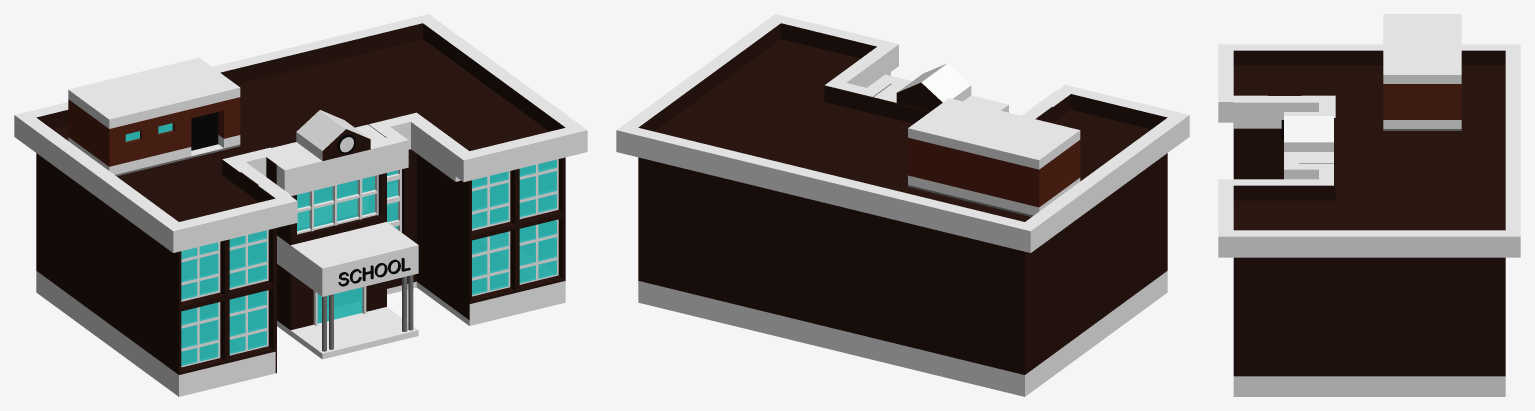
Rendered from School.fbx.
The picture shows the model from 3 angles, left to right: view 1: azimuth 30°, elevation 25°; view 2: azimuth 150°, elevation 25°; view 3: azimuth 270°, elevation 25°; orthographic projection. The views are drawn at different scales.
Parts seen in each view (by area): view 1: Box302, Box325, Box312, Box316, Box310, Box314, Text006, Box313, Box317, Box315, Box311; view 2: Box302; view 3: Box302.
Boxes of the visible parts, bbox=[...] form: Box302: bbox=[14, 14, 587, 396]; Box325: bbox=[297, 175, 378, 234]; Box312: bbox=[181, 302, 220, 367]; Box316: bbox=[472, 231, 510, 296]; Box310: bbox=[181, 242, 220, 301]; Box314: bbox=[472, 171, 510, 230]; Text006: bbox=[338, 258, 410, 286]; Box313: bbox=[229, 290, 268, 355]; Box317: bbox=[519, 219, 558, 284]; Box315: bbox=[519, 159, 558, 219]; Box311: bbox=[229, 230, 268, 289]; Box302: bbox=[616, 14, 1189, 396]; Box302: bbox=[1218, 14, 1520, 396].
Size of the model in its own units: 221 by 111 by 147.
